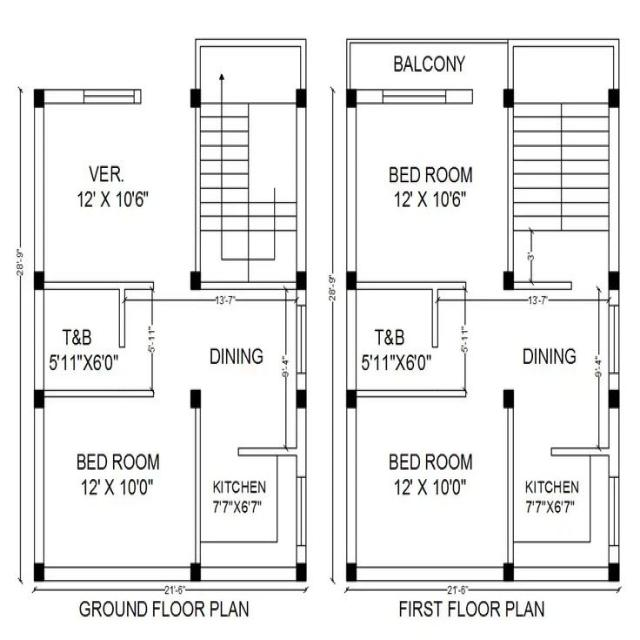column: (606, 385, 624, 413), (31, 86, 48, 112), (501, 386, 517, 412), (188, 560, 204, 585), (188, 387, 204, 412), (188, 269, 204, 294), (294, 387, 310, 412), (606, 86, 622, 111), (344, 268, 359, 294), (606, 268, 621, 294), (31, 386, 47, 410), (344, 86, 360, 110), (344, 561, 360, 585), (502, 268, 516, 295), (502, 85, 516, 112), (501, 559, 516, 584), (606, 561, 622, 584), (189, 86, 203, 112), (344, 387, 358, 413), (32, 561, 47, 585), (294, 86, 309, 110), (32, 269, 46, 294), (294, 561, 309, 584), (294, 269, 308, 293)
